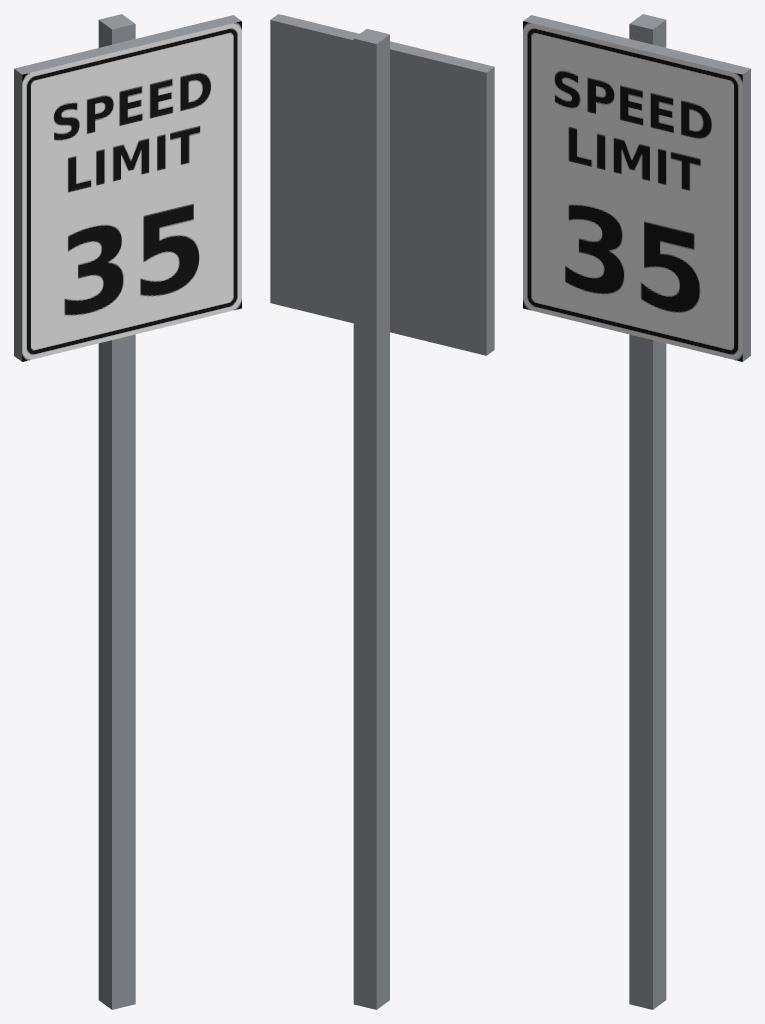
File: us_speed35.dae
3 views of the same model, side by side, from view 1: azimuth 30°, elevation 25°; view 2: azimuth 150°, elevation 25°; view 3: azimuth 330°, elevation 25° (orthographic).
Visible parts, largest first — view 1: sign4, Colmesh-1; view 2: Colmesh-1, sign4; view 3: sign4, Colmesh-1.
Boxes of the visible parts, x1=… form: sign4: x1=22, y1=14, x2=241, y2=1009; Colmesh-1: x1=14, y1=15, x2=241, y2=361; Colmesh-1: x1=270, y1=14, x2=494, y2=355; sign4: x1=353, y1=29, x2=389, y2=1009; sign4: x1=523, y1=14, x2=742, y2=1009; Colmesh-1: x1=523, y1=15, x2=750, y2=361.
Size of the model in its own units: 0.6096 by 0.105 by 2.6.
Materials: 2 (1 with a texture image).
